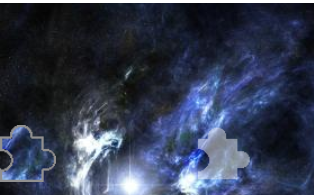target: (190, 124, 256, 184)
